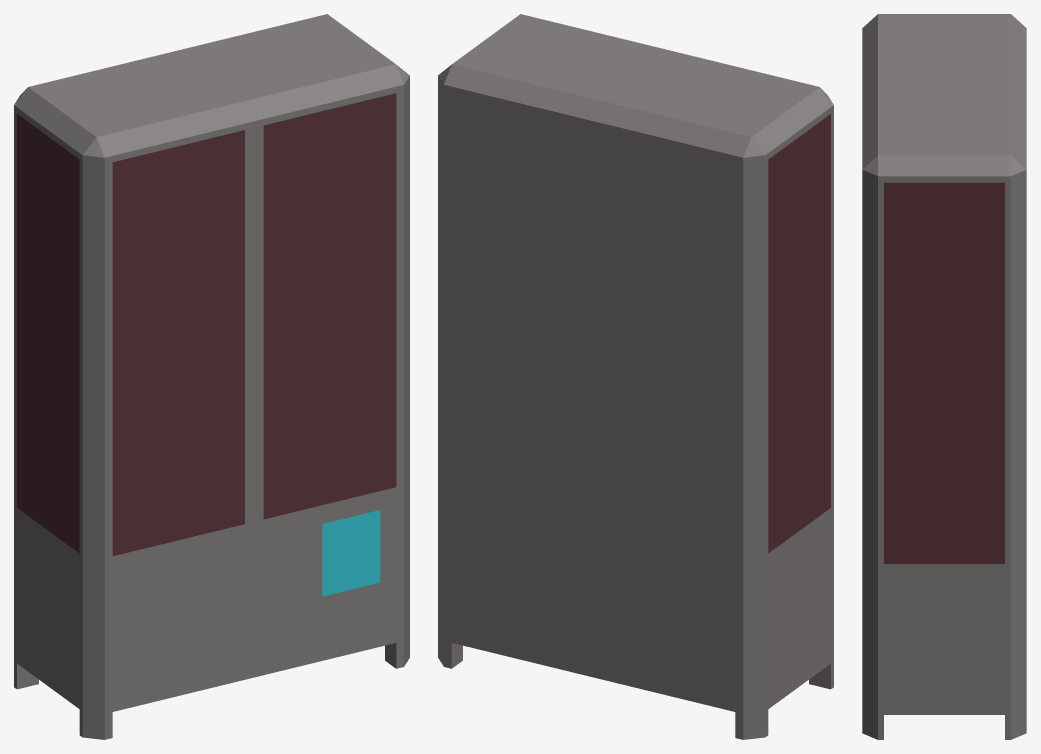
File: scifi-hydroponic.fbx
3 views of the same model, side by side, from view 1: azimuth 30°, elevation 25°; view 2: azimuth 150°, elevation 25°; view 3: azimuth 270°, elevation 25° (orthographic). The views are drawn at different scales.
Parts seen in each view (by area): view 1: scifi-hydroponic; view 2: scifi-hydroponic; view 3: scifi-hydroponic.
Boxes of the visible parts, bbox=[...] form: scifi-hydroponic: bbox=[14, 14, 409, 739]; scifi-hydroponic: bbox=[438, 14, 833, 739]; scifi-hydroponic: bbox=[862, 14, 1026, 739].
Size of the model in its own units: 1.32 by 2.3 by 0.592.
